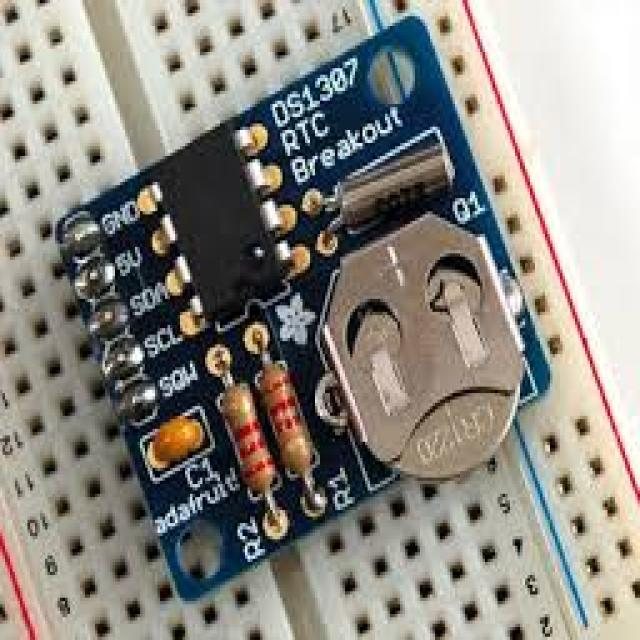IC: (131, 113, 312, 332)
battery: (317, 216, 535, 481)
capacitor 1V5: (140, 406, 212, 484)
clock Q1: (315, 128, 468, 259)
resistor IR1: (208, 359, 291, 509), (247, 336, 326, 486)
